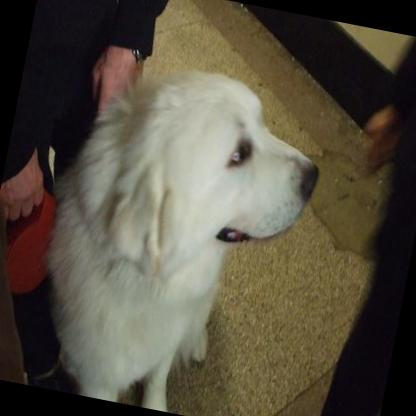Great_Pyrenees: (18, 42, 337, 416)
